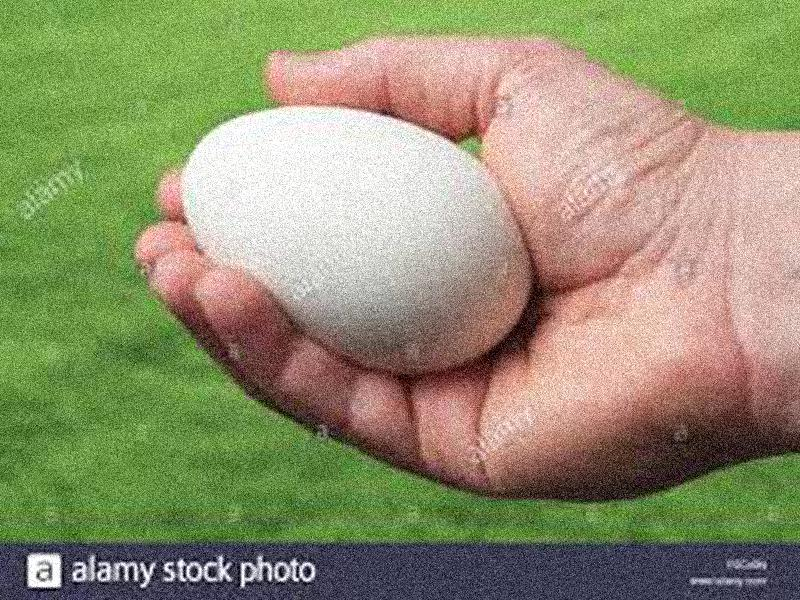Eggs: (183, 103, 537, 375)
